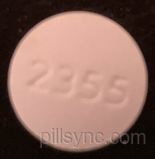Acetaminophen 325 MG Oral Tablet: (1, 8, 153, 156)
